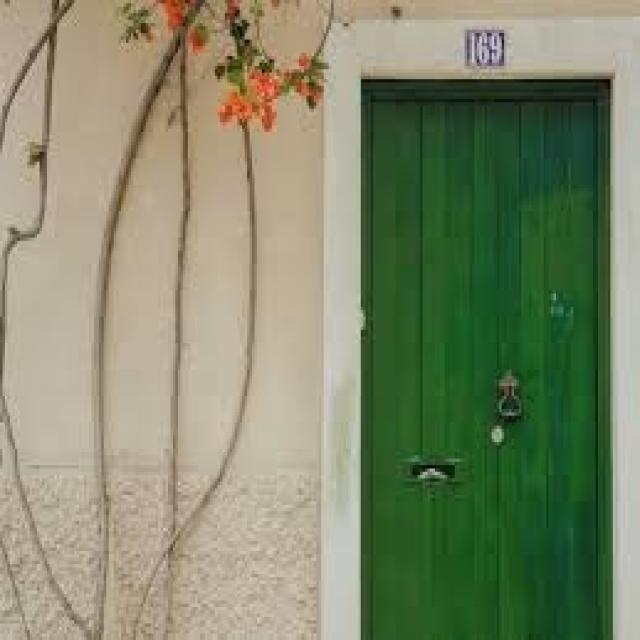door: (359, 79, 612, 640)
